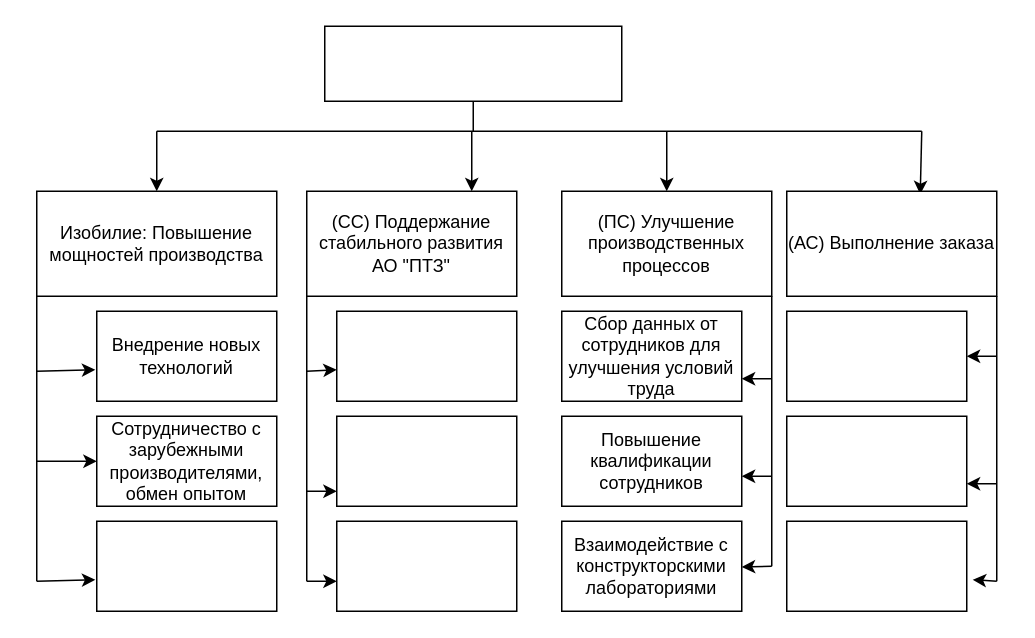
Some shapes in this 1035 by 638 pixel diagram are drawn without their labels. The shapes that lost their labels are listed below. From the top down, each one's centre as x and y in pixels, then its label:
At point 472,63: "Глобальная цель: поддержание гегемонии на рынке производимой продукции".
At point 876,355: "Взаимодействие с заказчиком, получение обратной связи".
At point 876,460: "Исследование рынка материалов".
At point 876,565: "Изучение рынка готовой продукции".
